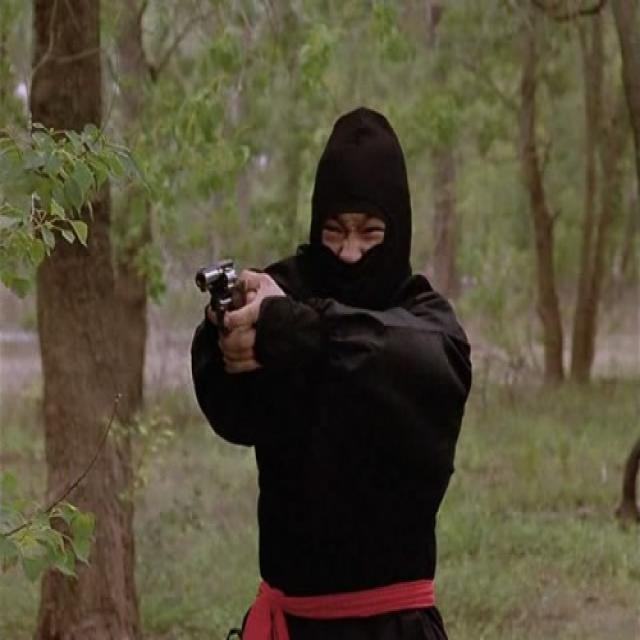weapons: (191, 246, 256, 382)
